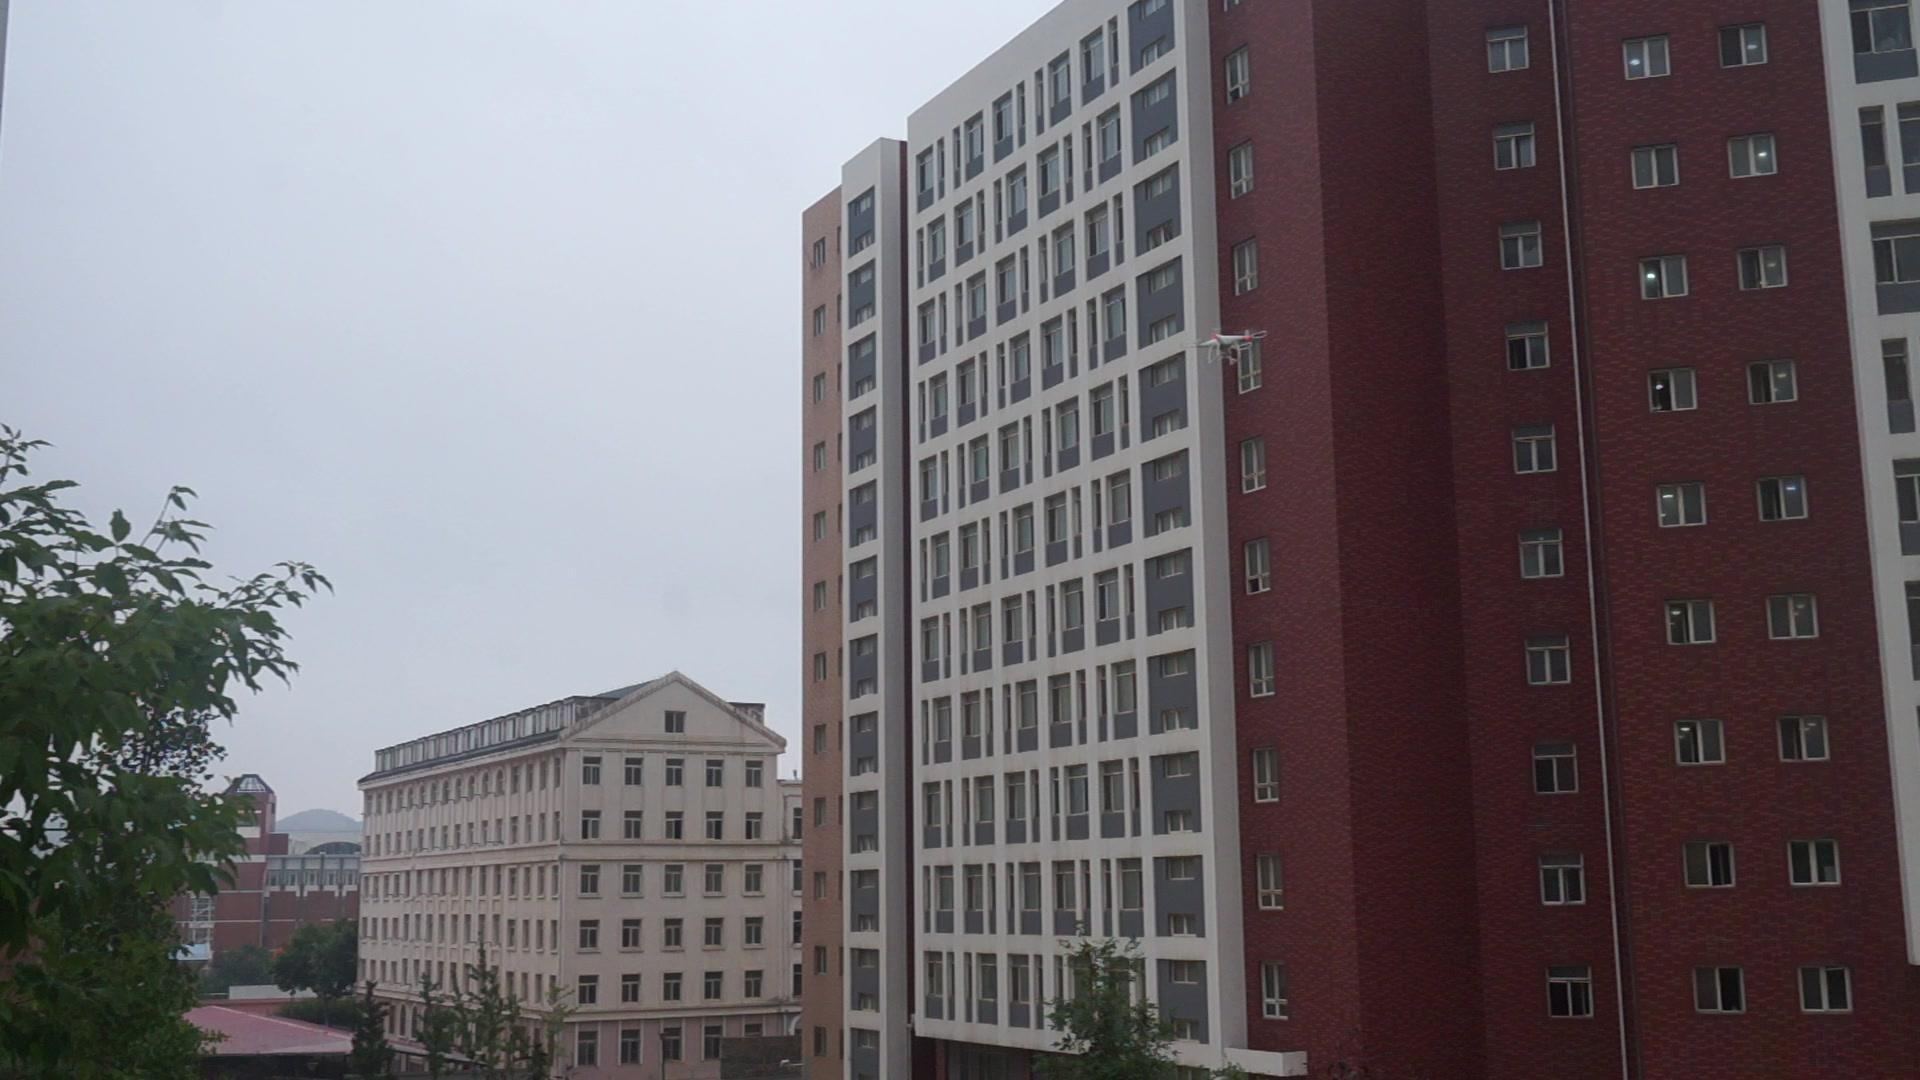UAV: (1182, 328, 1269, 364)
